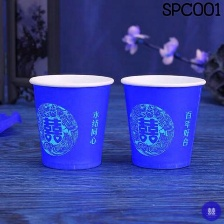paper_cup: (23, 68, 117, 173), (117, 68, 209, 173)
